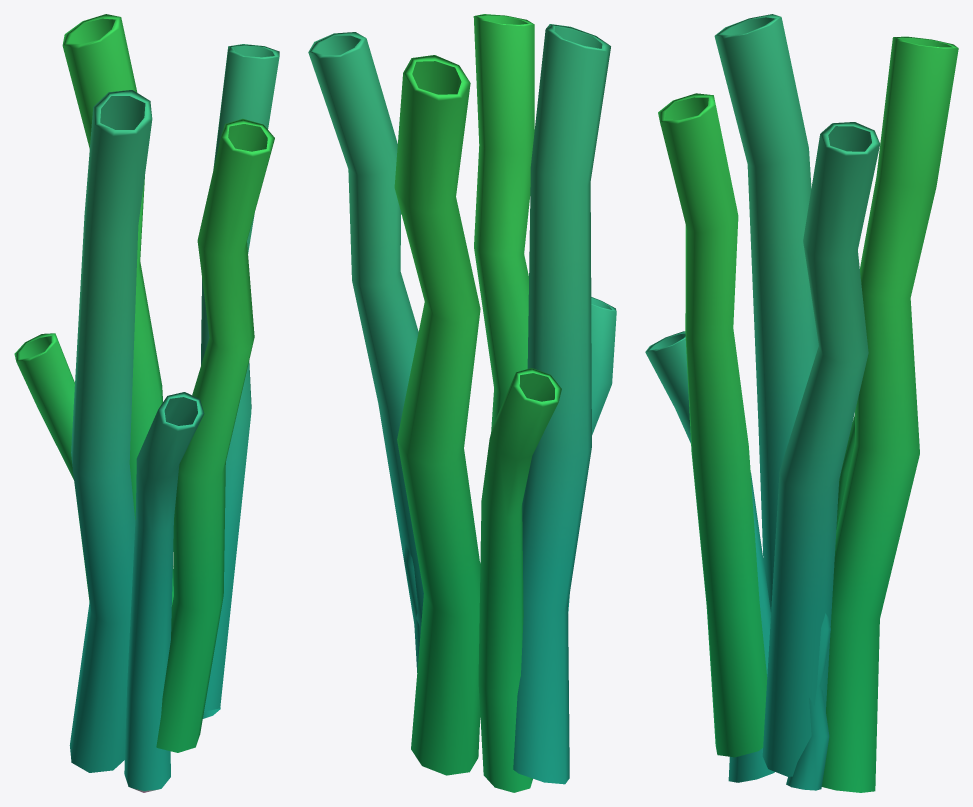
The model's file is VEG0410016.fbx.
3 renders of one model, left to right at view 1: azimuth 30°, elevation 25°; view 2: azimuth 150°, elevation 25°; view 3: azimuth 270°, elevation 25°, orthographic. The views are drawn at different scales.
Parts seen in each view (by area): view 1: smVEG0410016; view 2: smVEG0410016; view 3: smVEG0410016.
Boxes of the visible parts, left/top/right/bottom form: smVEG0410016: left=14, top=14, right=279, bottom=792; smVEG0410016: left=308, top=14, right=616, bottom=792; smVEG0410016: left=645, top=14, right=958, bottom=792.
Size of the model in its own units: 47.18 by 128 by 47.77.
1 material, 1 textured.
